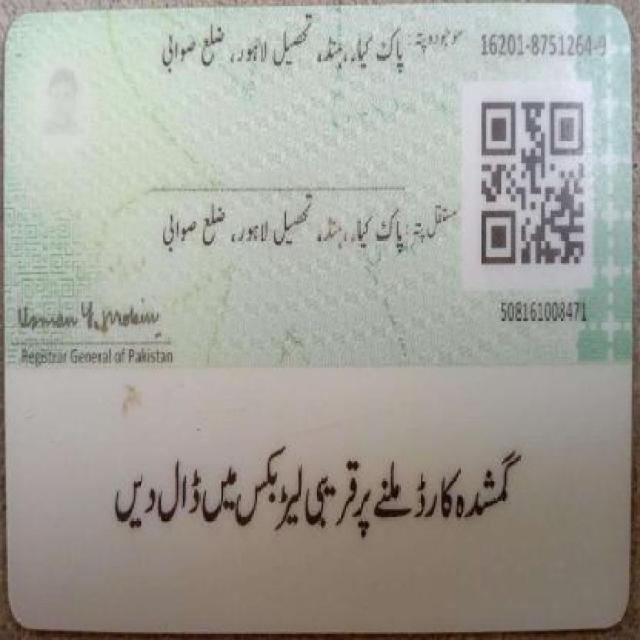Back: (11, 6, 631, 625)
